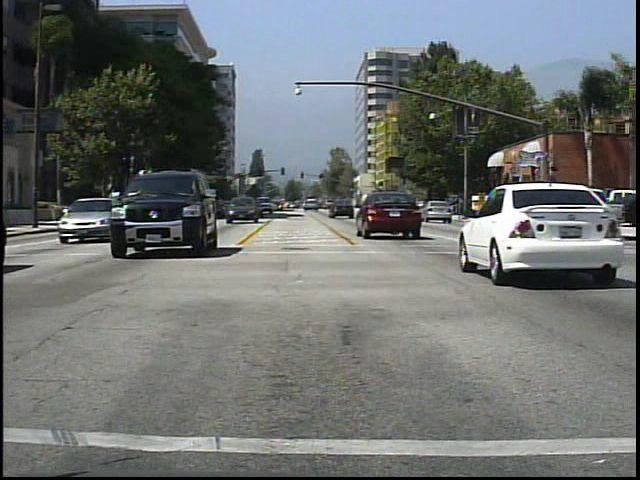person: (549, 190, 568, 228), (502, 188, 519, 224)
